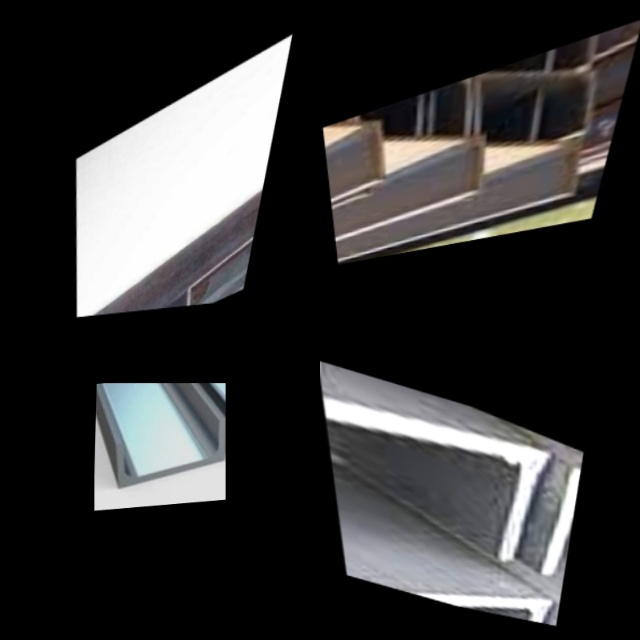Shveller: (320, 374, 540, 606), (474, 34, 610, 160), (343, 544, 547, 623), (428, 63, 546, 168), (357, 77, 473, 163), (467, 36, 595, 101), (120, 420, 224, 487), (323, 95, 419, 162), (78, 274, 195, 317), (323, 109, 382, 192)
